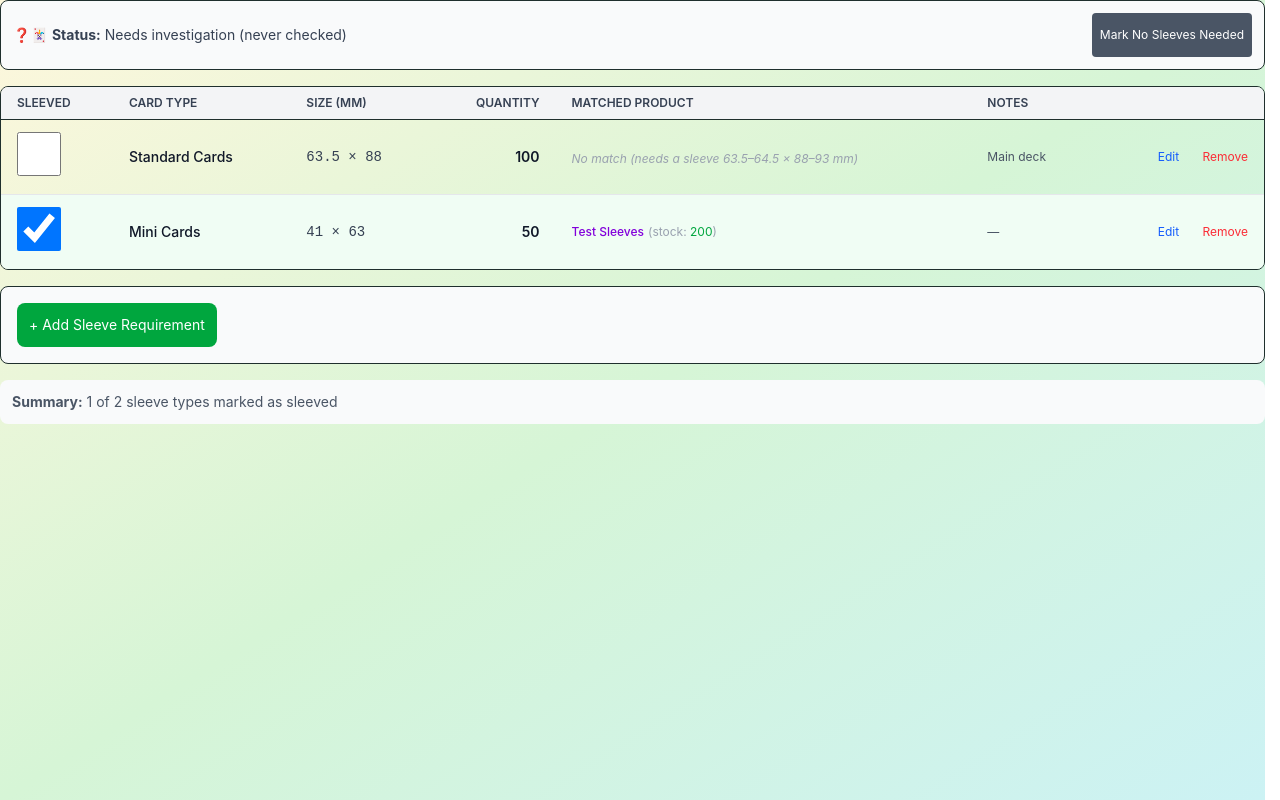
SleevesListTable › Adding a sleeve requirement › rejects a zero or negative size
Click the button "+ Add Sleeve Requirement": x=117, y=325 [17,303,217,347]
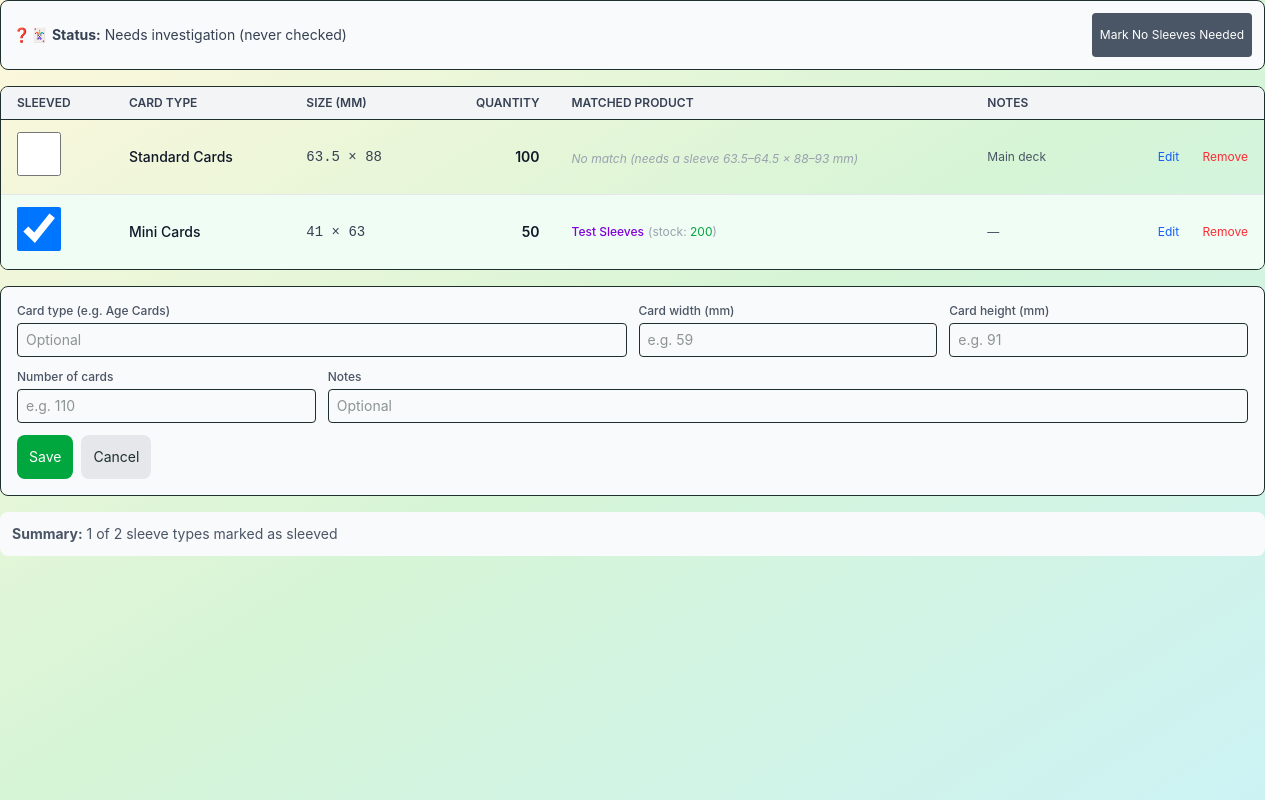
In the number field labelled "Card width (mm)": x=788, y=340 [638,323,937,357], type "0"
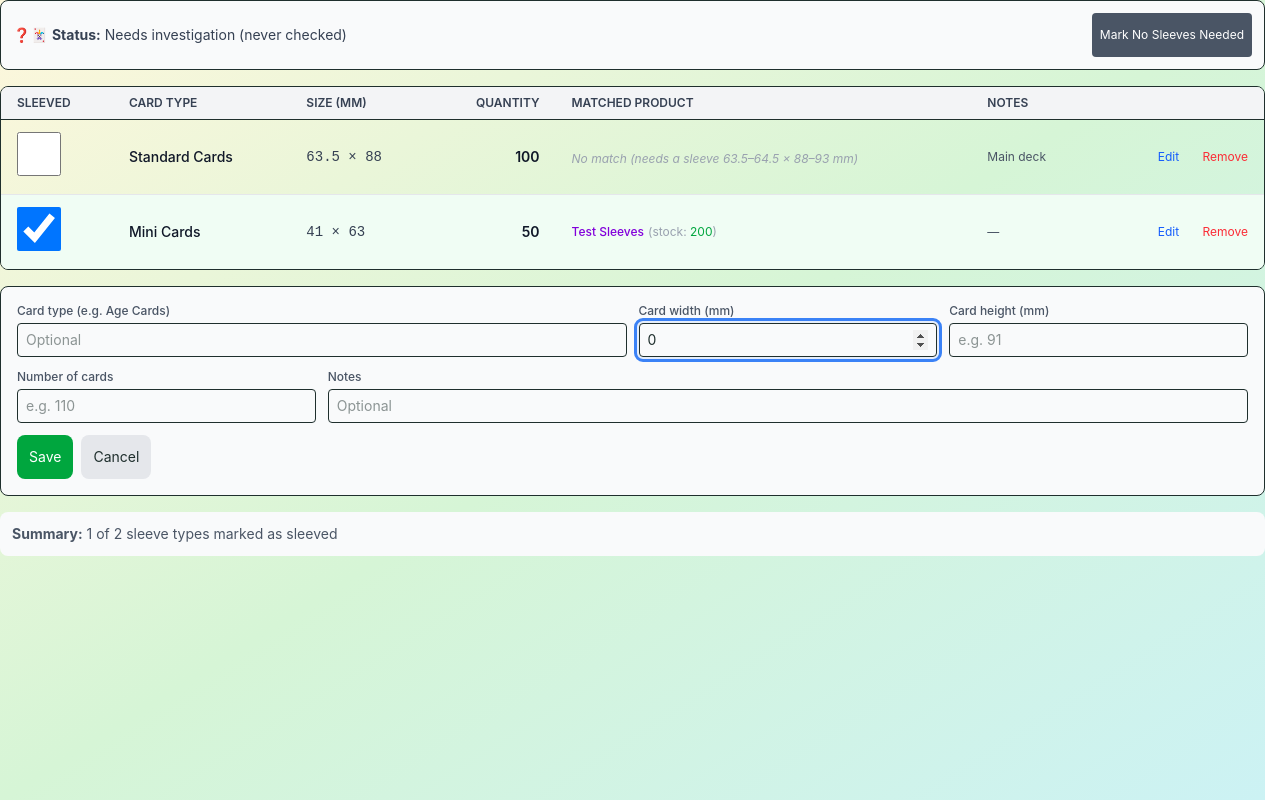
In the number field labelled "Card height (mm)": x=1099, y=340 [949,323,1248,357], type "88"
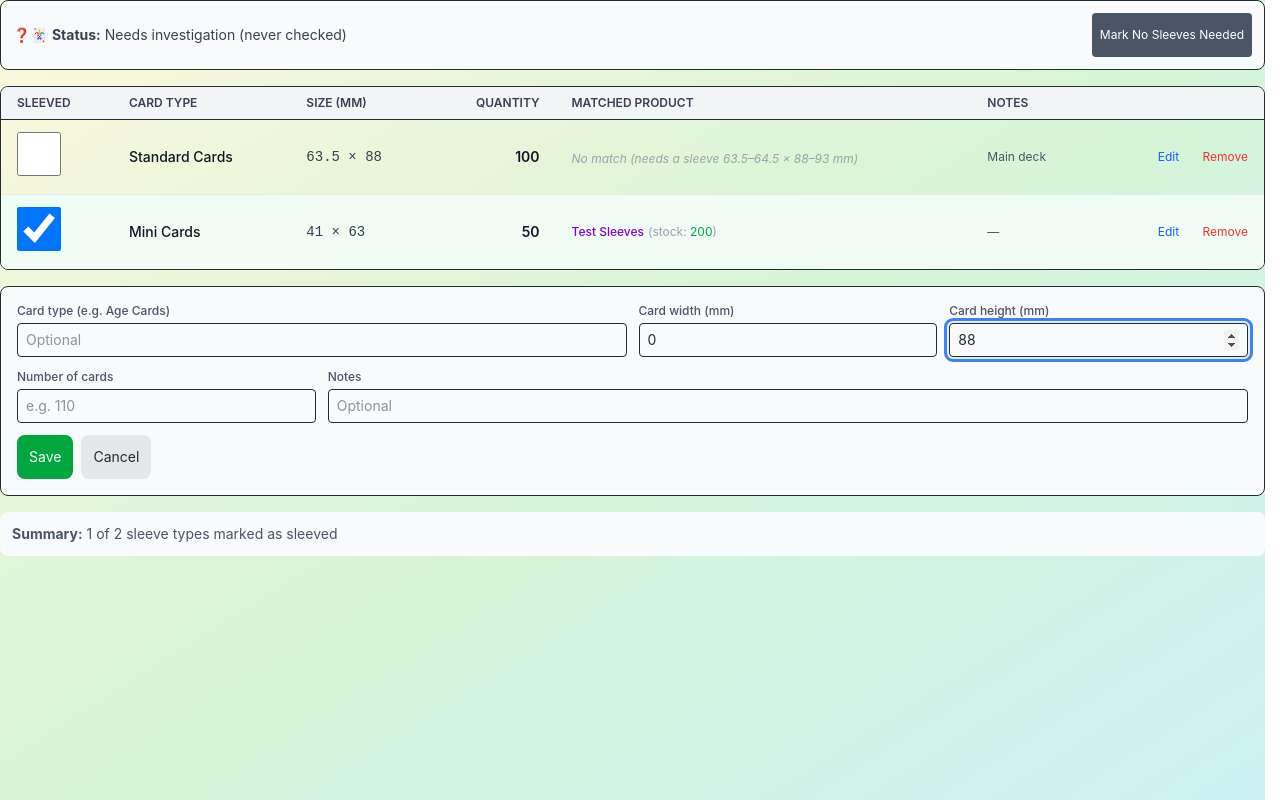
In the number field labelled "Number of cards": x=166, y=406 [17,389,316,423], type "10"
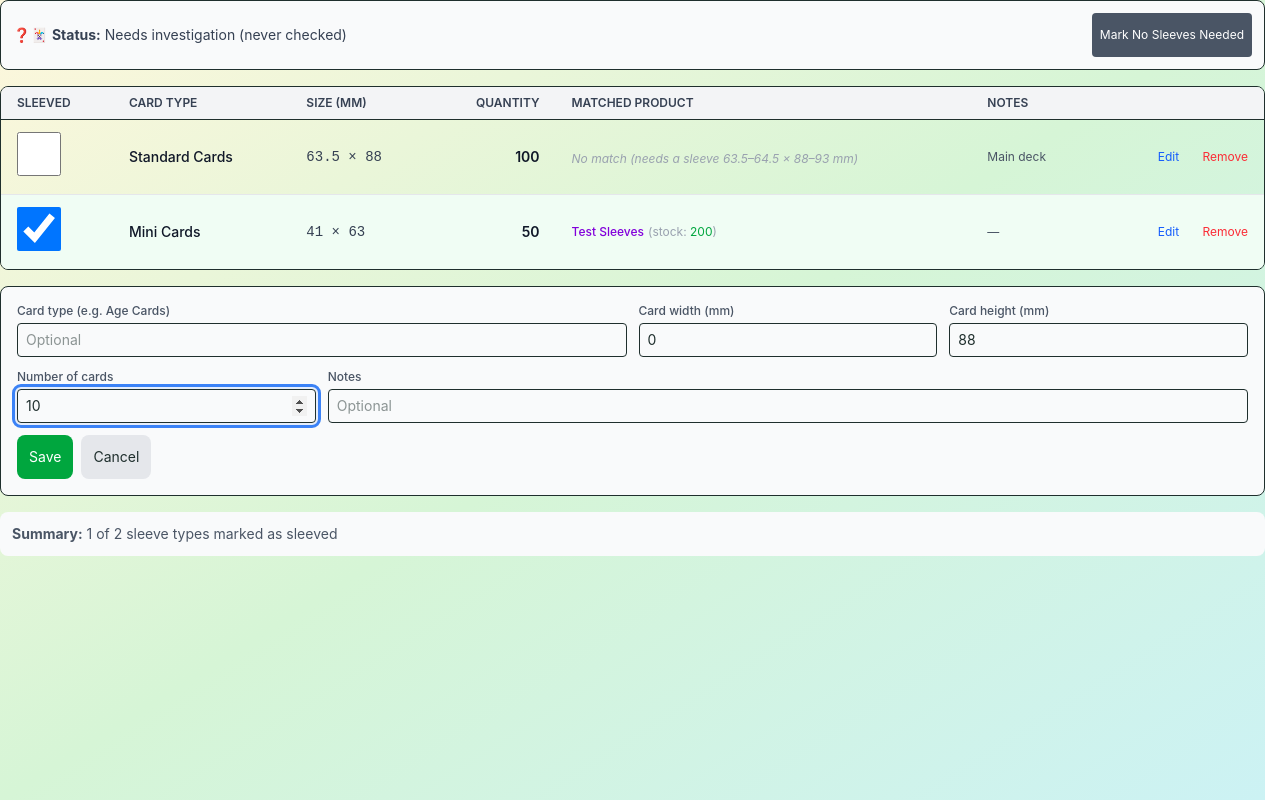
Click the button "Save": x=45, y=457 [17,435,73,479]
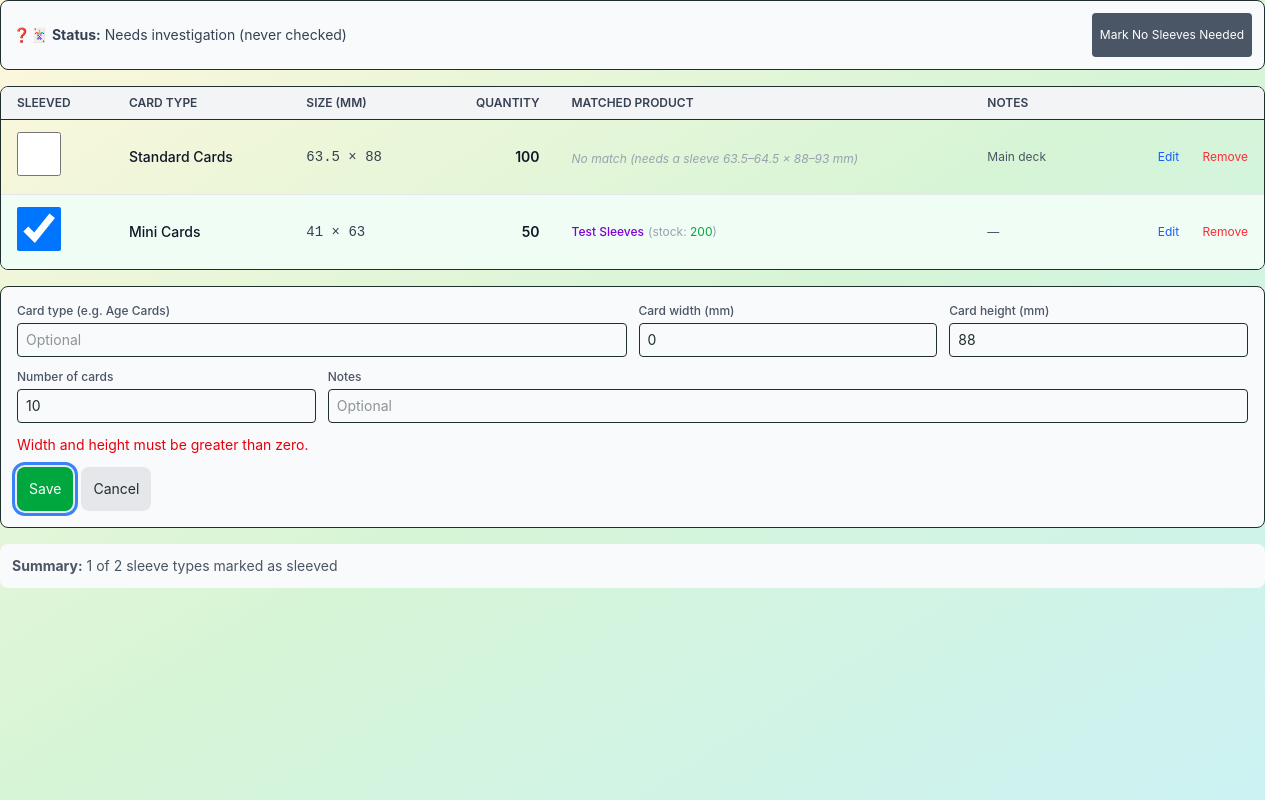
Now the text "Width and height must be greater than zero." is shown, box [17,436,308,453]
